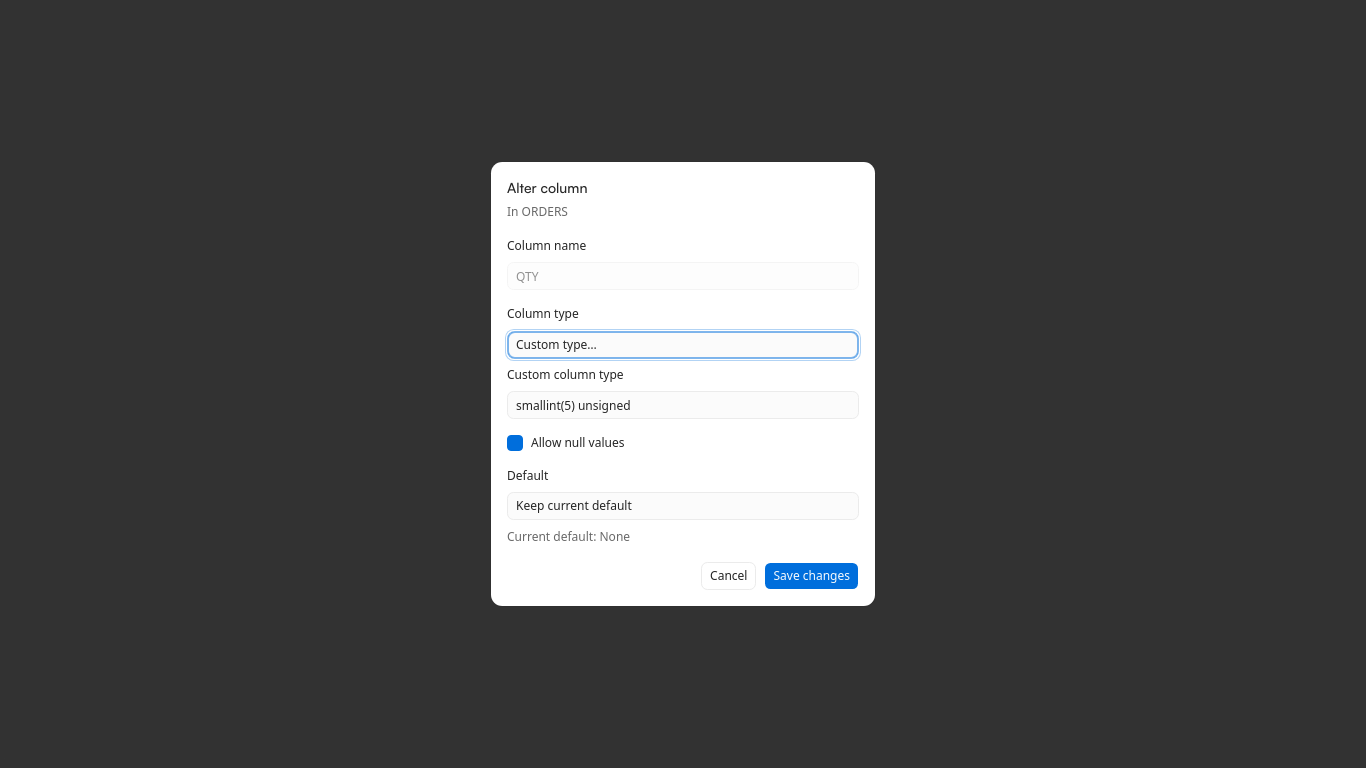
Test case: ColumnEditDialog › keeps a rule-matched "smallint(5) unsigned" type selectable after switching away and back
The image size is (1366, 768).
Click the dropdown named "Column type".
click(556, 344)  # box [507,330,859,358]
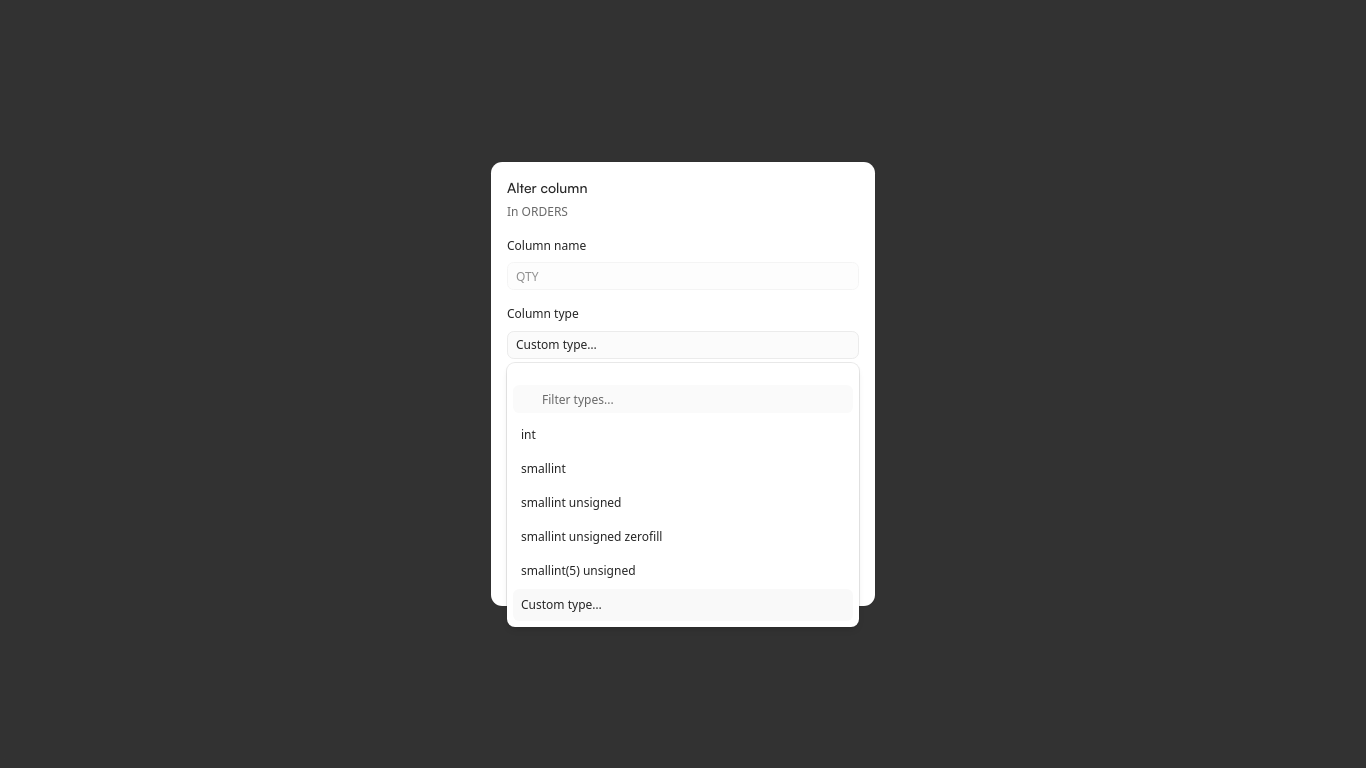
Click the option "int".
click(528, 434)  # box [521,426,536,443]
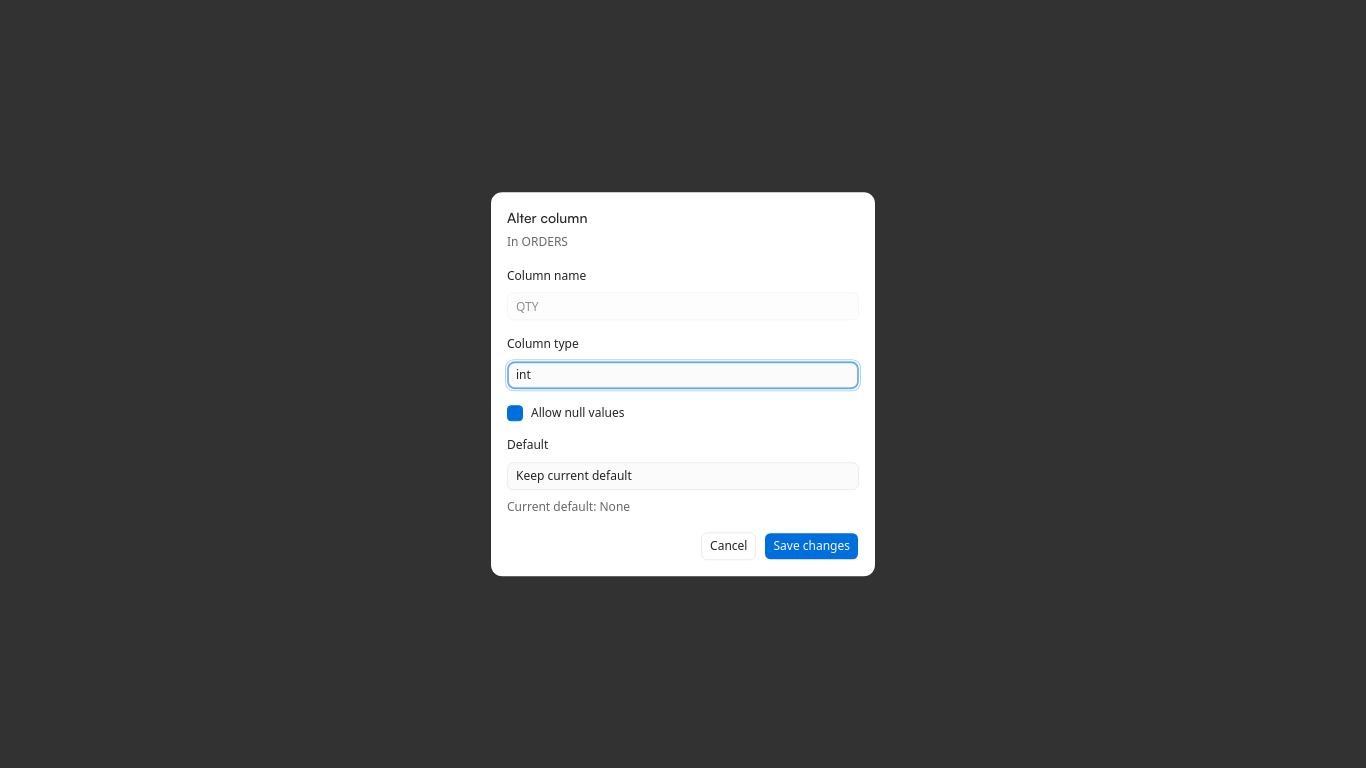
Expected: the dropdown named "Column type" reads "int"
Click the dropdown named "Column type".
click(523, 374)  # box [507,361,859,389]
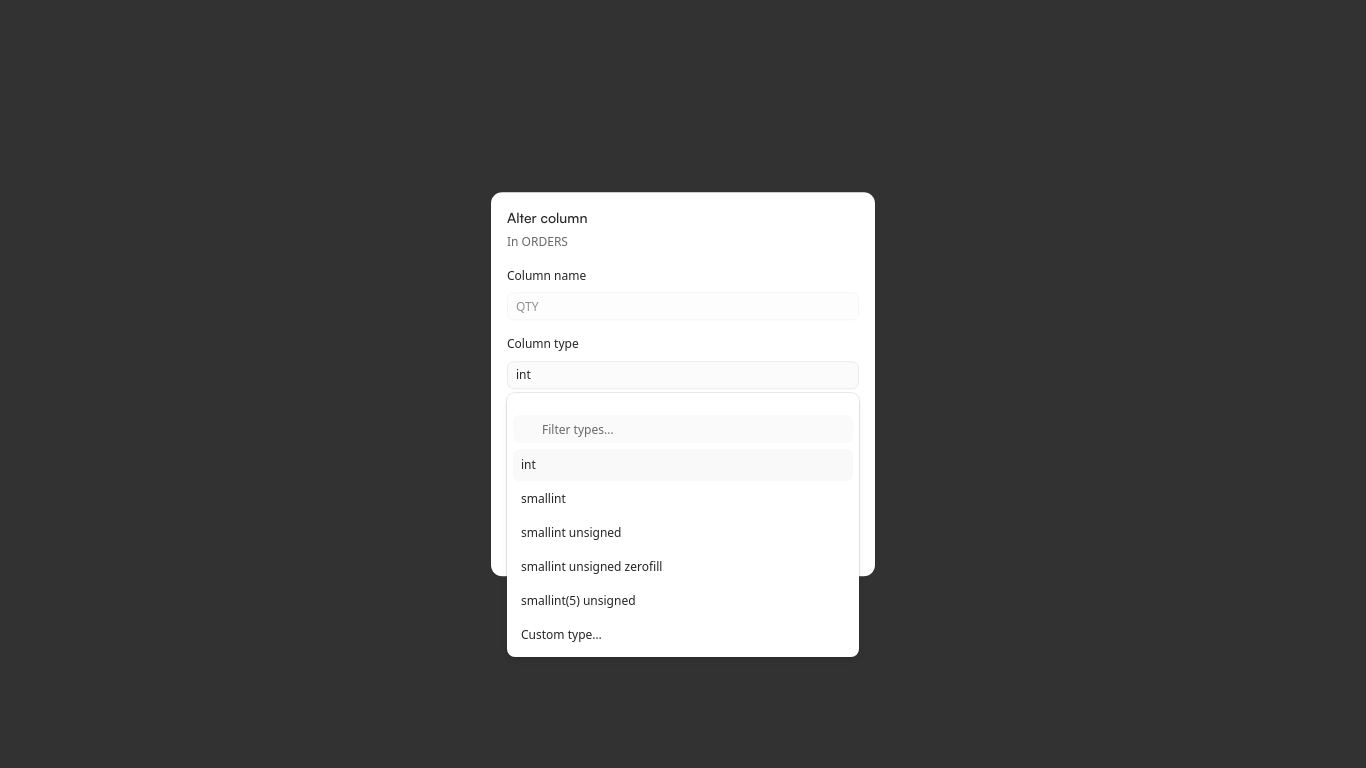
Expected: the option "smallint(5) unsigned" is shown
Click the option "smallint(5) unsigned".
click(578, 600)  # box [521,592,636,609]
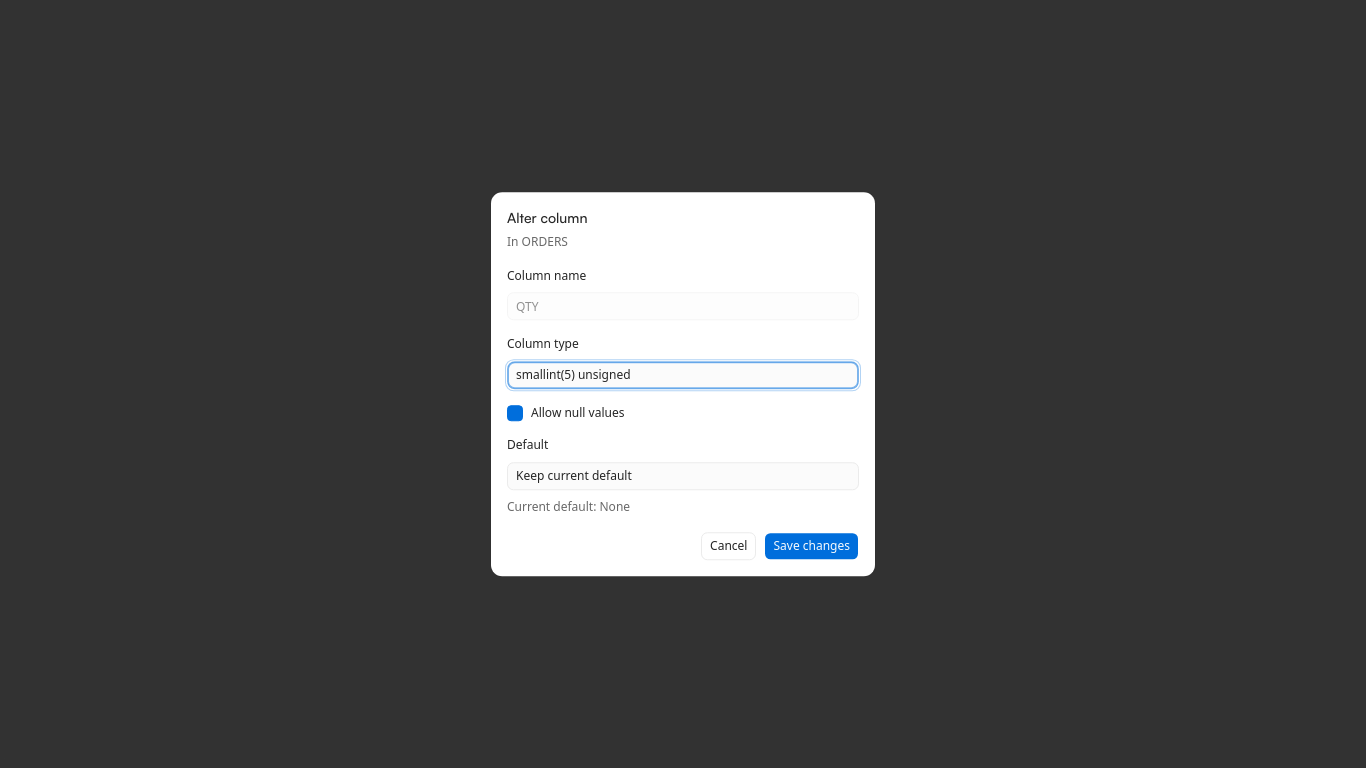
Expected: the dropdown named "Column type" reads "smallint(5) unsigned", [507,361,859,389]
